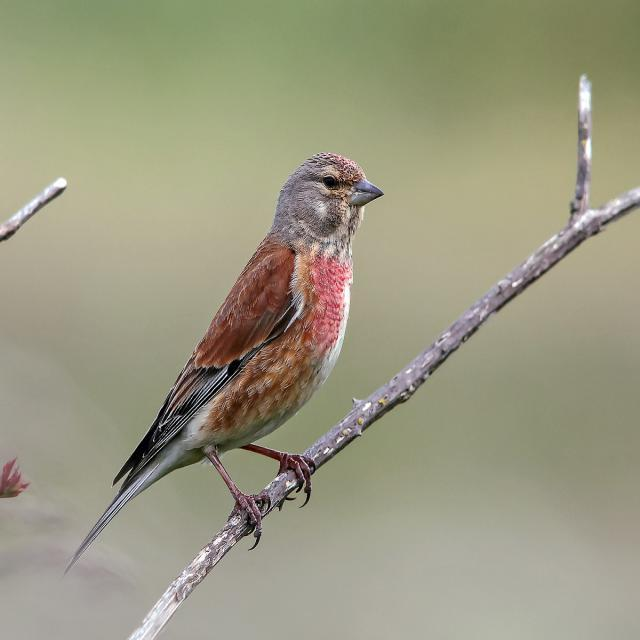bird: (70, 94, 419, 610)
